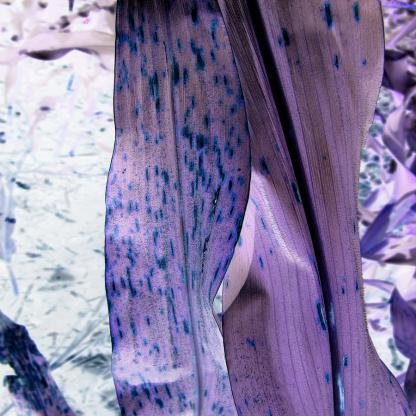Corn leaf blight: (107, 2, 248, 416), (238, 5, 380, 414)
